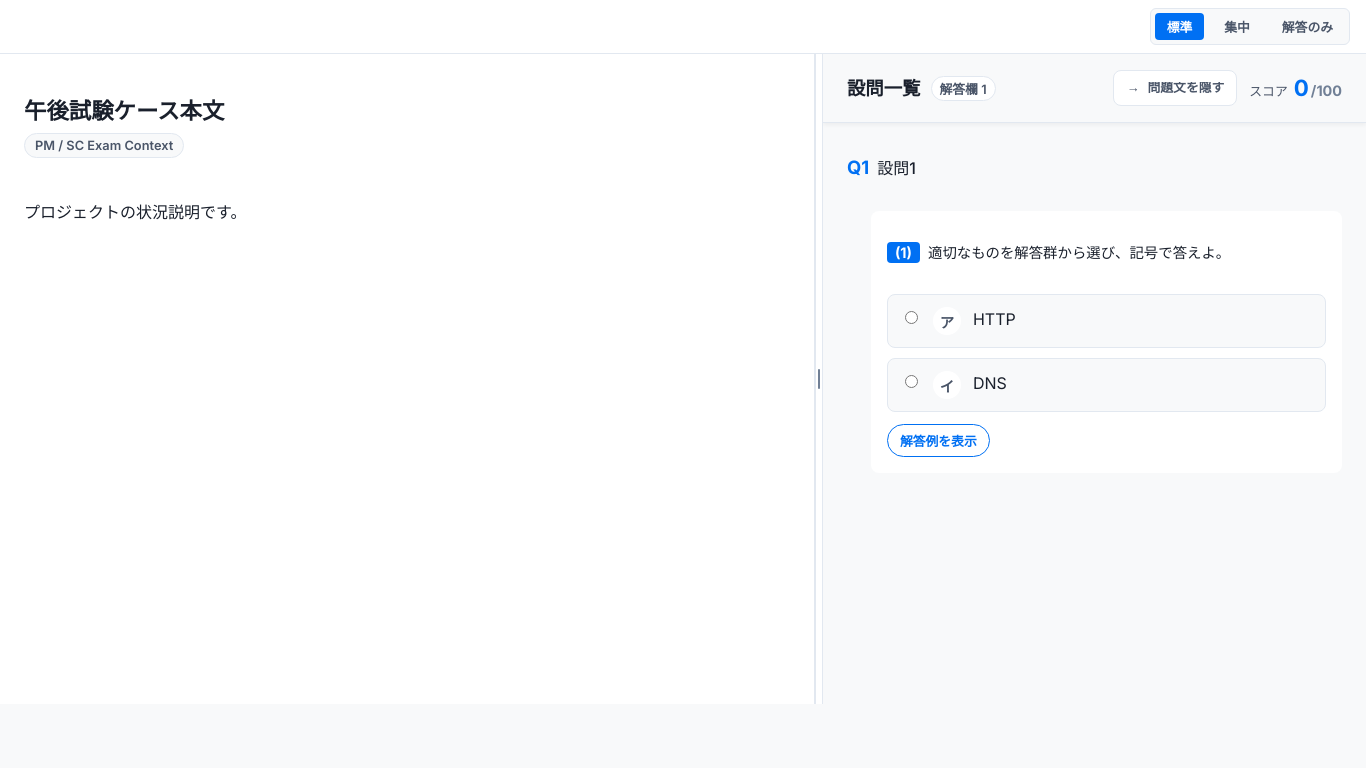
it: SCPMExamView › 午後の択一選択式はラジオボタンで即時採点する
The image size is (1366, 768).
Step 1. Click the radio button labelled "イ DNS" → (911, 381), box [905,375,918,388]
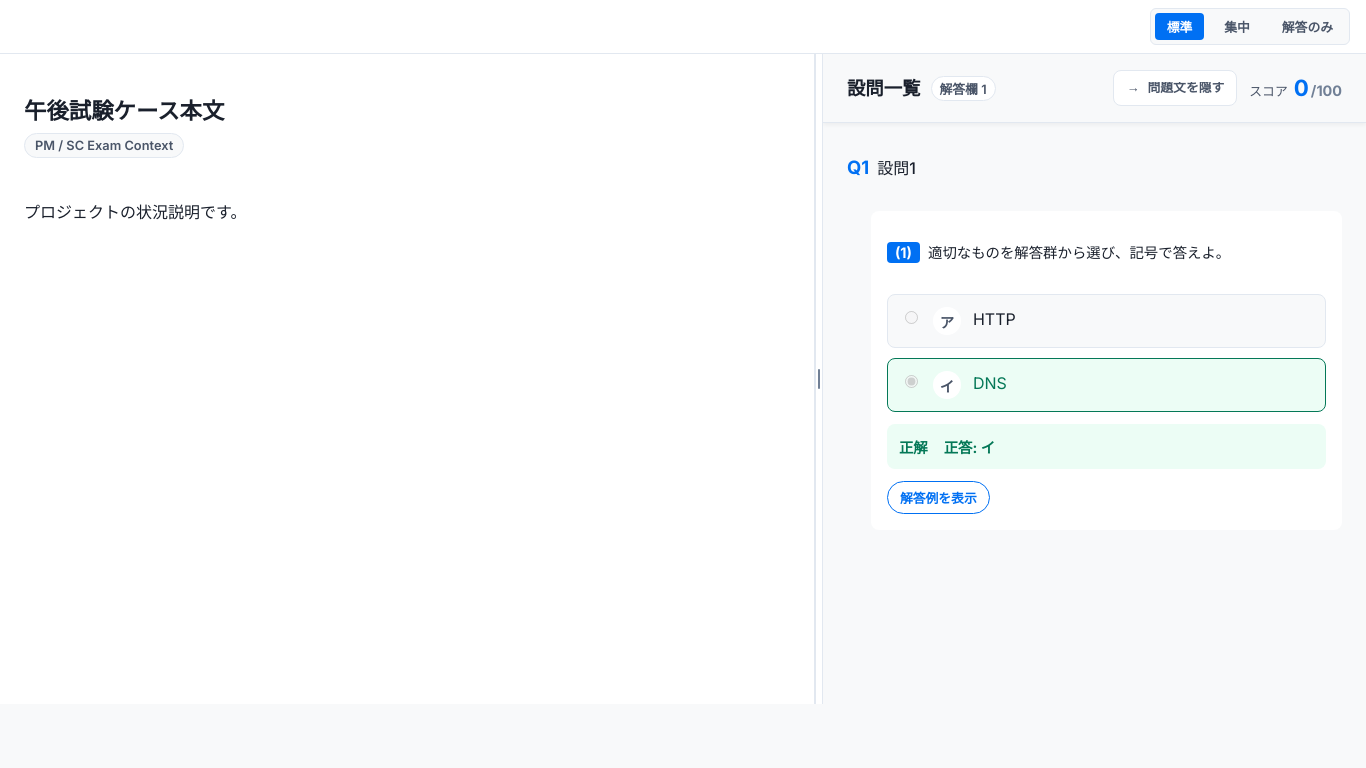
Expected: the text "正解" is shown, [899,436,928,457]
